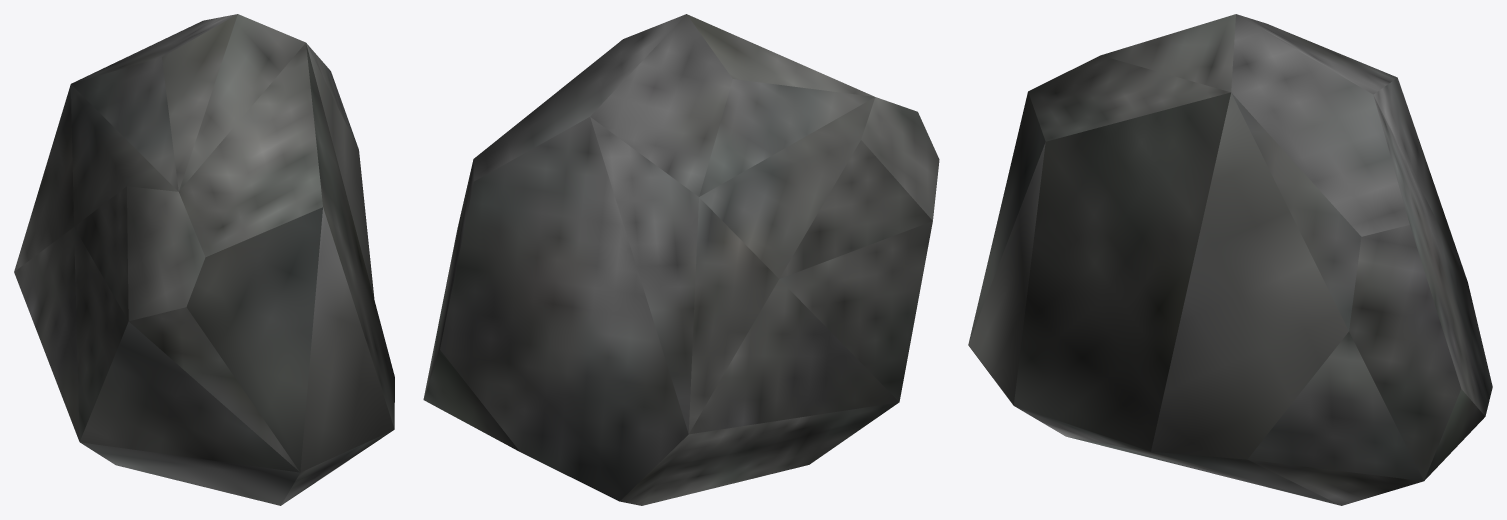
Rendered from Rock4.fbx.
The picture shows the model from 3 angles, left to right: view 1: azimuth 30°, elevation 25°; view 2: azimuth 150°, elevation 25°; view 3: azimuth 270°, elevation 25°; orthographic projection. The views are drawn at different scales.
Visible parts, largest first — view 1: Rock5; view 2: Rock5; view 3: Rock5.
Boxes of the visible parts, x1,y1,x2,y2 form: Rock5: (14,14,394,505); Rock5: (423,14,939,505); Rock5: (968,14,1492,505).
Size of the model in its own units: 151 by 169 by 182.
